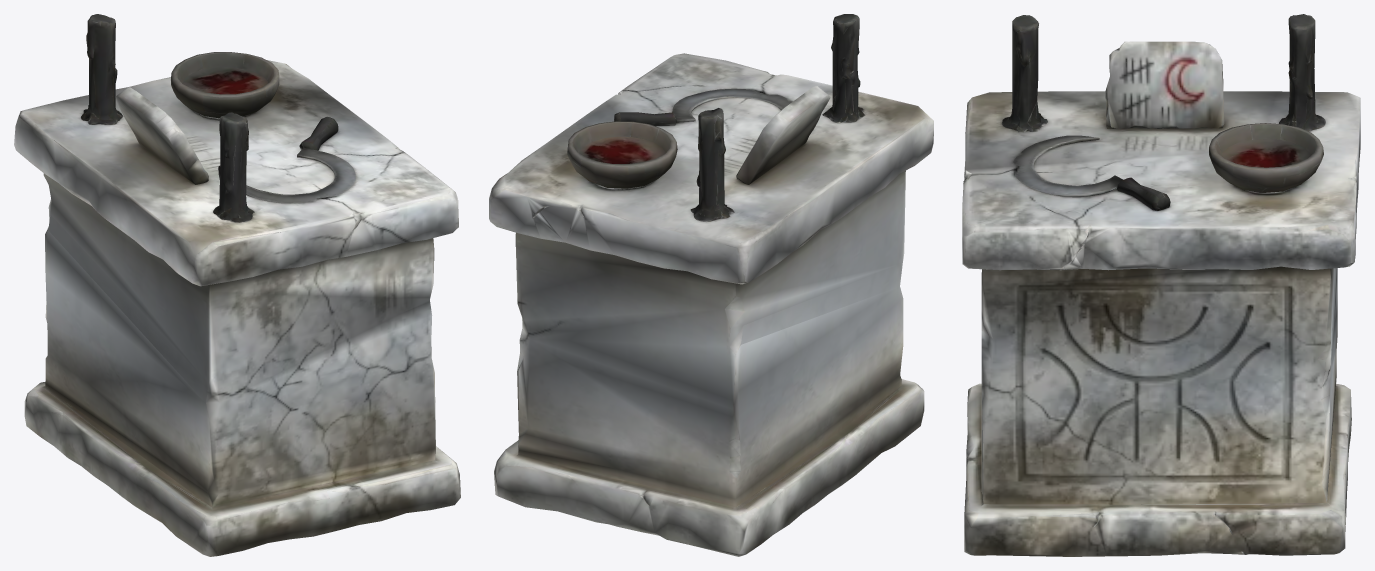
File: obj_altar.glb
3 renders of one model, left to right at view 1: azimuth 30°, elevation 25°; view 2: azimuth 150°, elevation 25°; view 3: azimuth 270°, elevation 25°, orthographic. The views are drawn at different scales.
Visible parts, largest first — view 1: model; view 2: model; view 3: model.
Boxes of the visible parts, left/top/right/bottom form: model: left=14, top=14, right=460, bottom=556; model: left=489, top=14, right=933, bottom=556; model: left=962, top=14, right=1360, bottom=556.
Size of the model in its own units: 0.6567 by 1 by 0.8234.
1 material, 1 textured.
